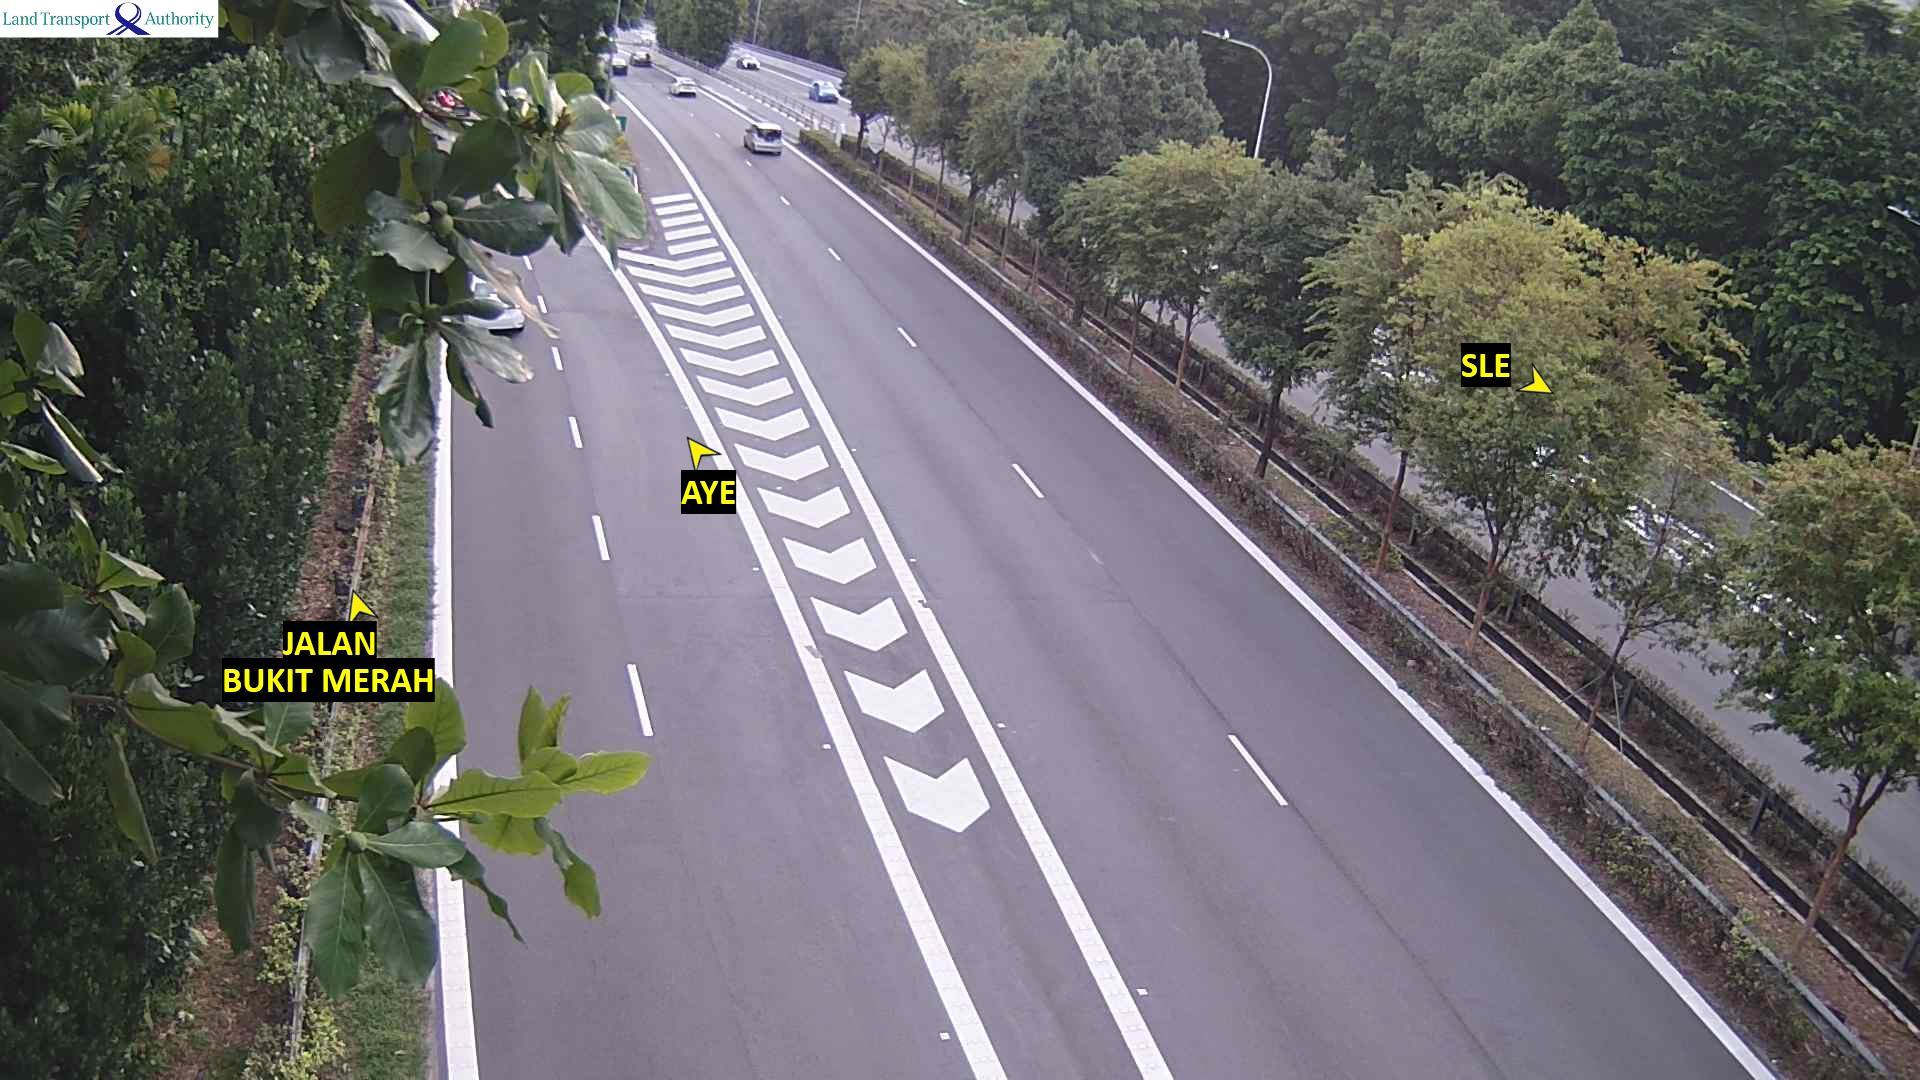cars: (458, 269, 526, 335), (422, 85, 474, 120), (742, 121, 783, 154), (808, 78, 839, 102), (669, 76, 696, 96), (735, 52, 759, 70), (609, 52, 628, 74), (629, 49, 652, 67)
